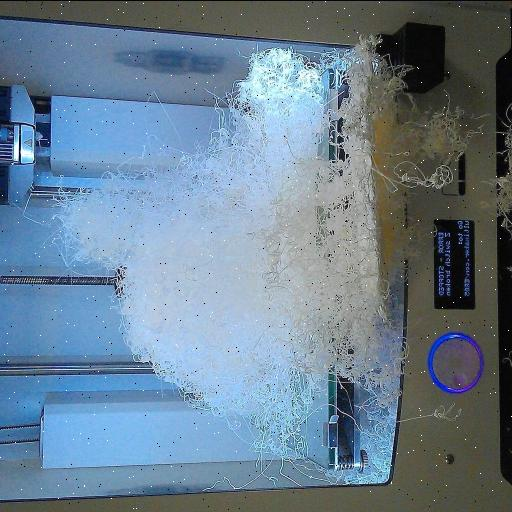spaghetti: (56, 48, 412, 472)
